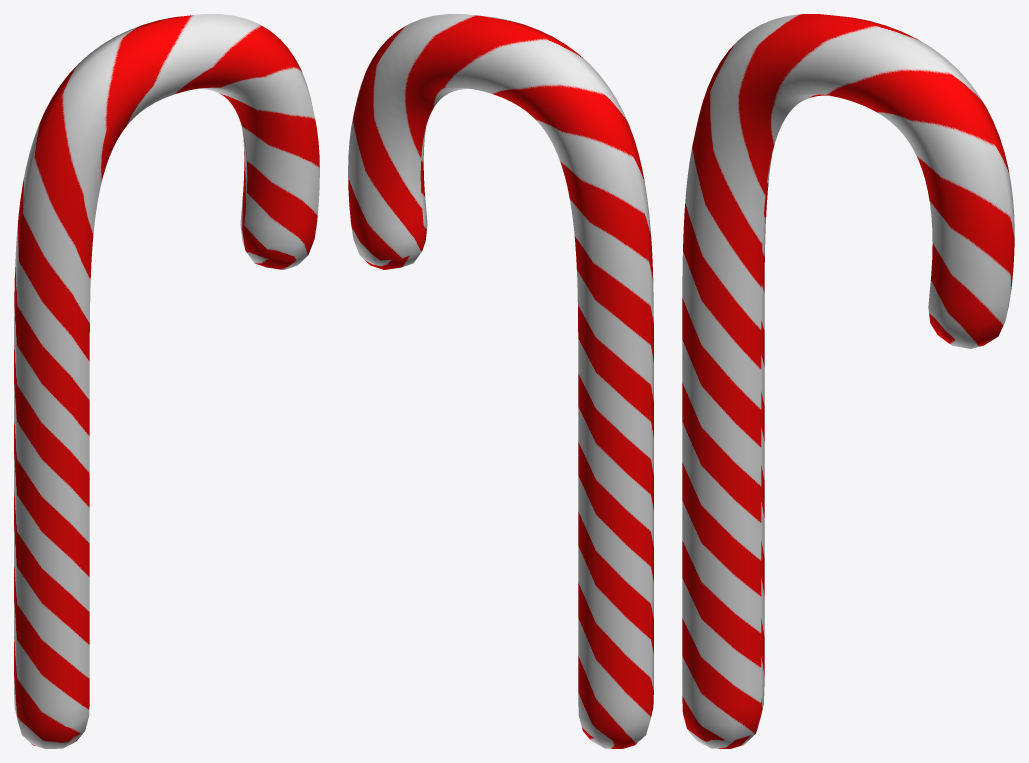
The model's file is CandyCane.fbx.
3 renders of one model, left to right at view 1: azimuth 30°, elevation 25°; view 2: azimuth 150°, elevation 25°; view 3: azimuth 330°, elevation 25°, orthographic. The views are drawn at different scales.
Visible parts, largest first — view 1: CandyCane; view 2: CandyCane; view 3: CandyCane.
Boxes of the visible parts, box(x1,y1,x2,y2) form: CandyCane: box(14, 14, 319, 748); CandyCane: box(348, 14, 653, 748); CandyCane: box(682, 14, 1014, 748).
Size of what is drawn, in the model's own units: 45.02 by 100 by 10.48.
